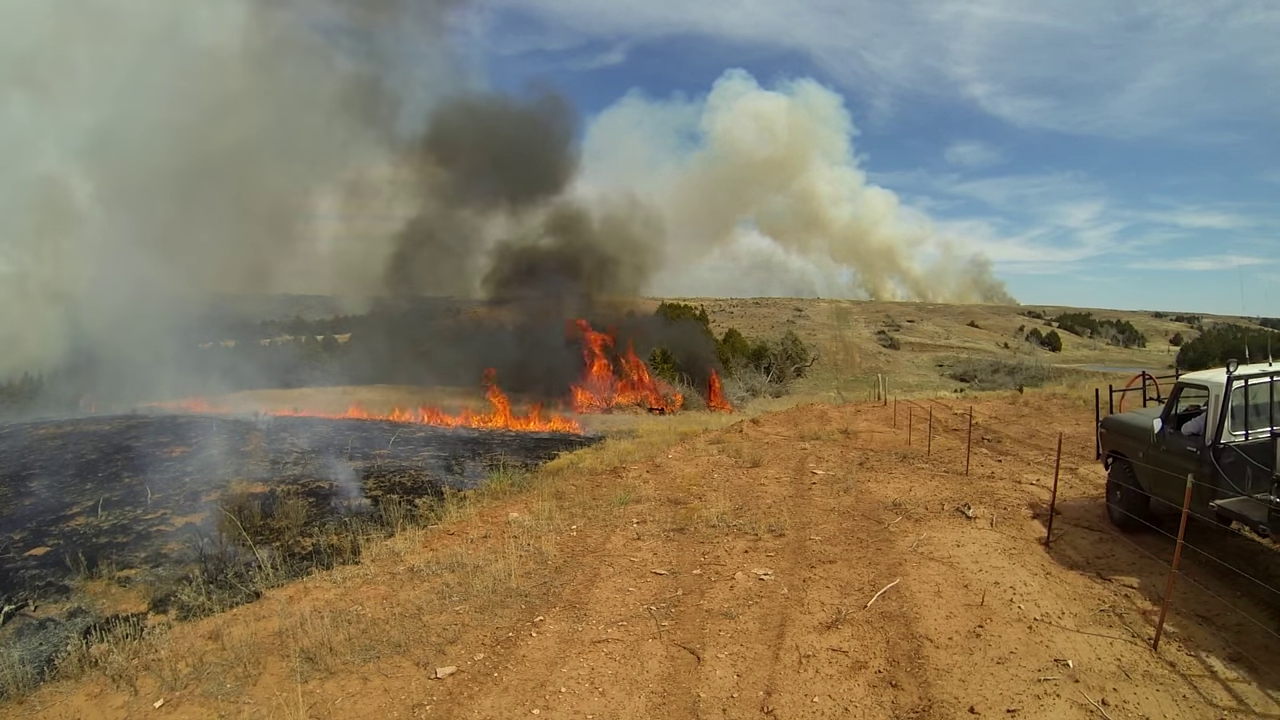forest_fire: (257, 368, 581, 432), (263, 368, 581, 432), (569, 319, 684, 412), (570, 319, 680, 411), (145, 397, 241, 413), (143, 398, 233, 410), (707, 368, 732, 410)
